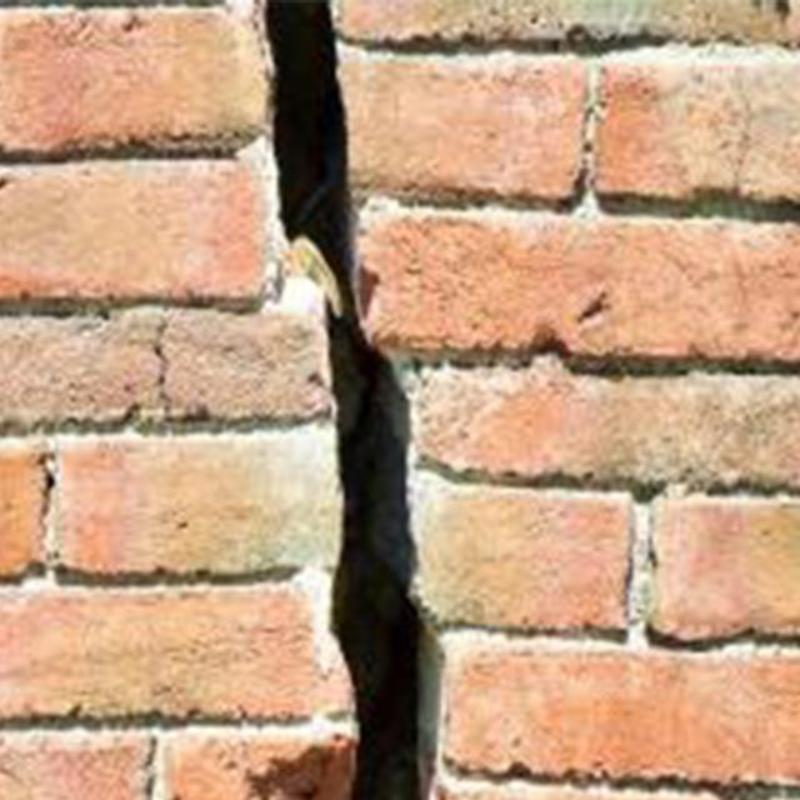crack: (266, 0, 432, 799)
